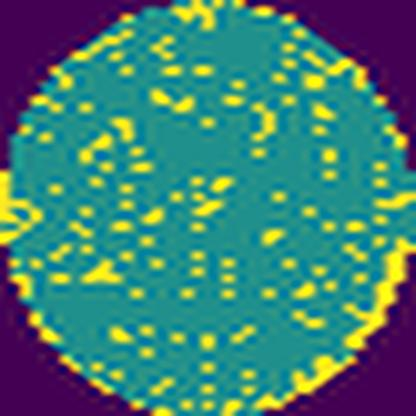Edge-Loc: (345, 225, 415, 347), (254, 354, 368, 414), (0, 170, 40, 247)
